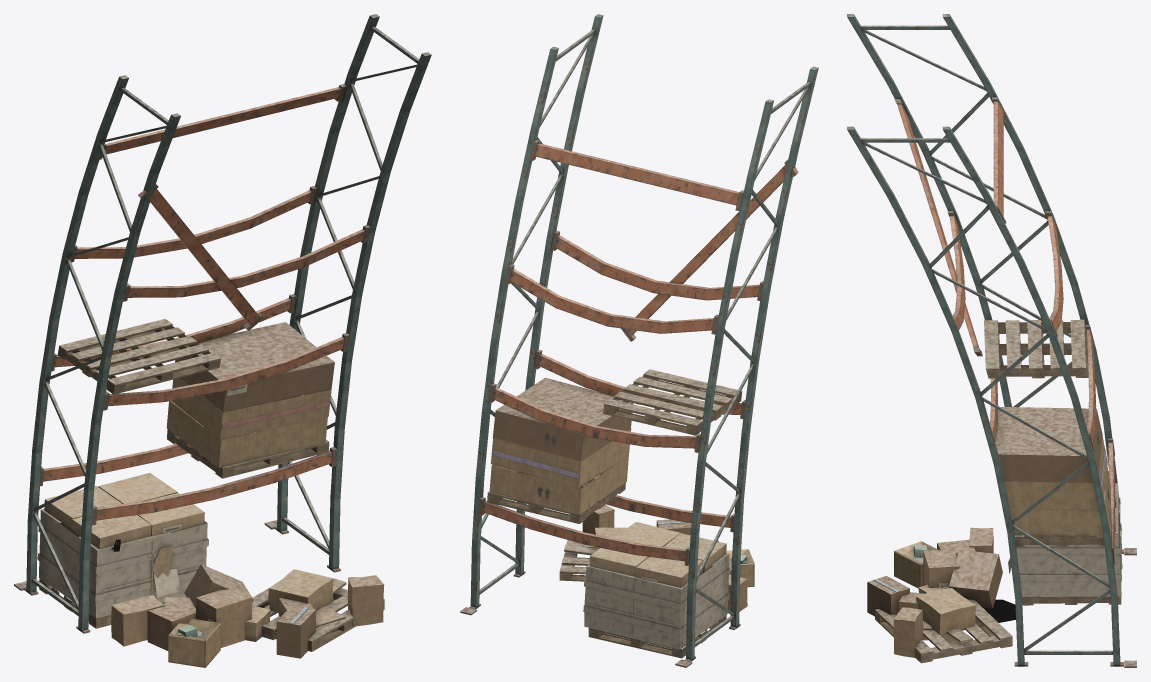
File: rack_collapsed.fbx
The picture shows the model from 3 angles, left to right: view 1: azimuth 30°, elevation 25°; view 2: azimuth 150°, elevation 25°; view 3: azimuth 270°, elevation 25°; orthographic projection. The views are drawn at different scales.
Visible parts, largest first — view 1: Body; view 2: Body; view 3: Body.
Boxes of the visible parts, x1,y1,x2,y2 form: Body: (14,14,431,667); Body: (460,14,818,667); Body: (847,14,1136,667).
Bounding box in the file's own units: 12.4 × 26.05 × 12.72.
Materials: 1 (1 with a texture image).
